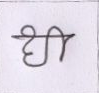i_matra: (50, 26, 69, 62)
